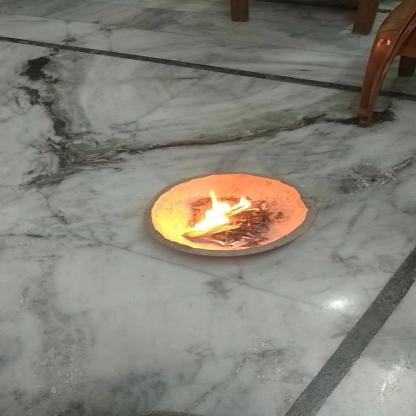fire: (186, 184, 256, 237)
